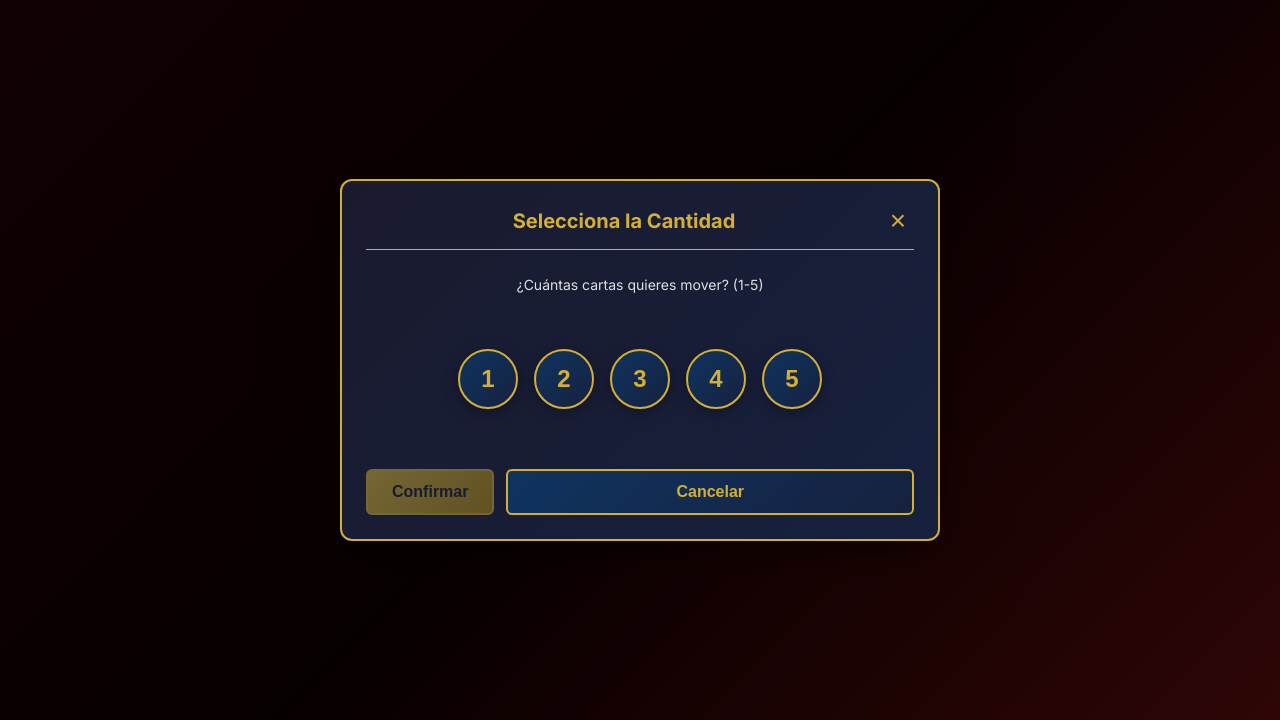
ModalDescarteConCantidad › Selección de cantidad › muestra la cantidad seleccionada en el texto
Click the button "2" at {"x": 564, "y": 379}, box [534, 349, 594, 409]
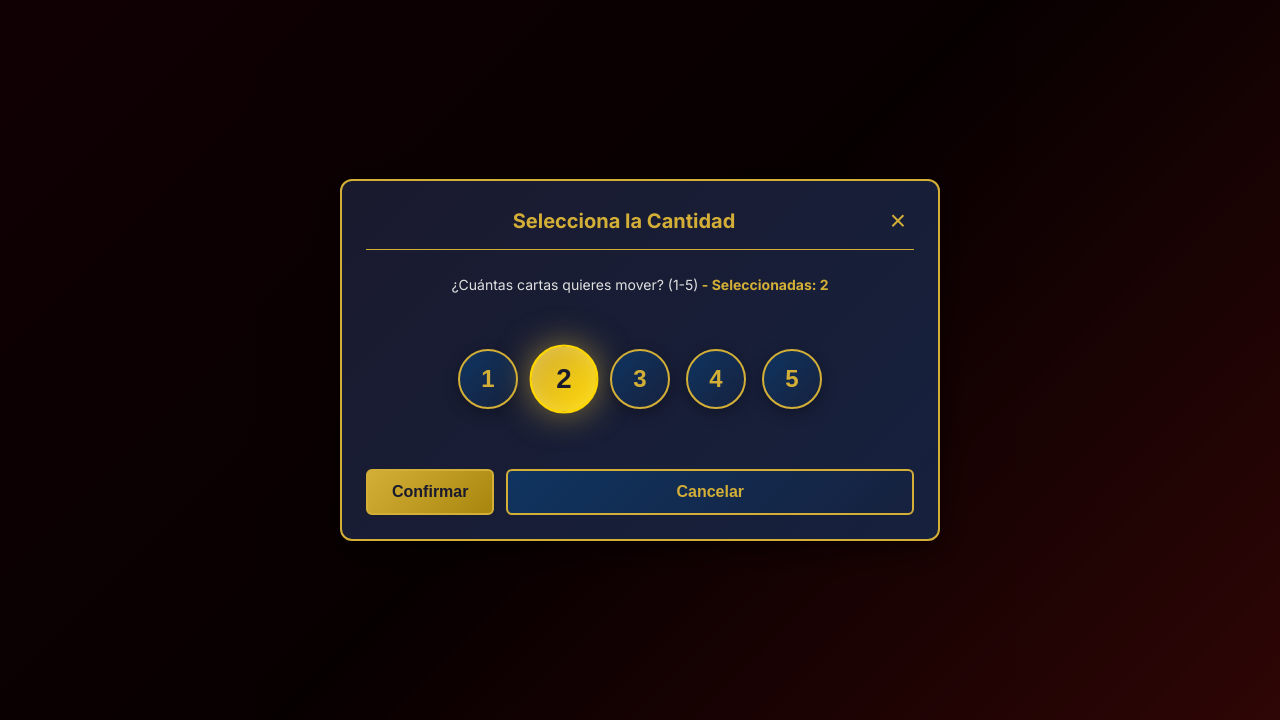
Result: the text "- Seleccionadas: 2" is shown at [698, 276, 829, 293]
